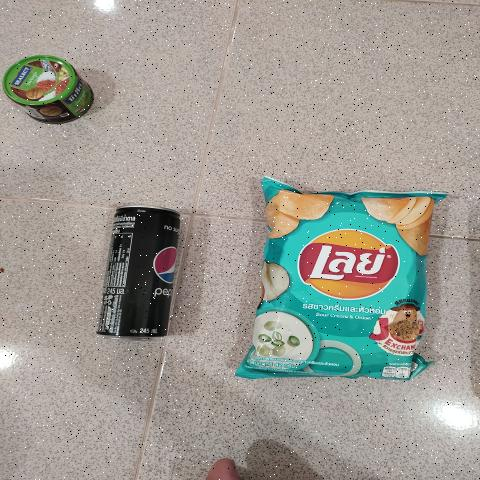lay_blue: (256, 201, 422, 363)
pepsi_black: (114, 203, 167, 341)
